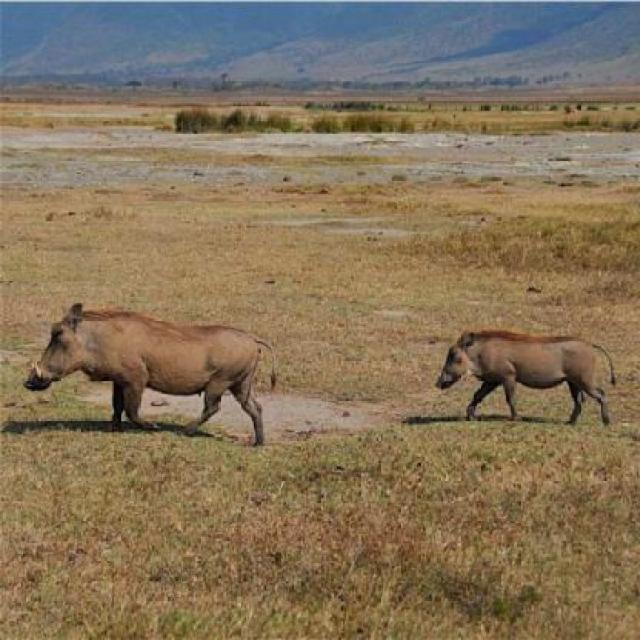Boar: (6, 253, 288, 462), (403, 301, 617, 457)
